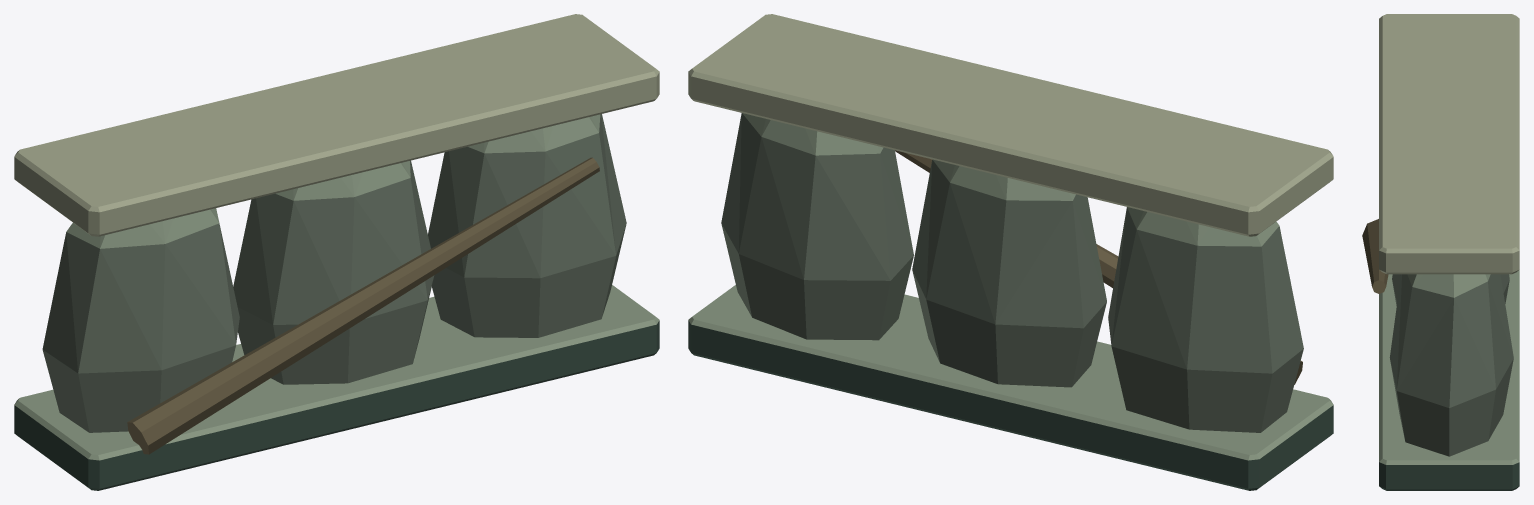
File: wall-straight.glb
3 views of the same model, side by side, from view 1: azimuth 30°, elevation 25°; view 2: azimuth 150°, elevation 25°; view 3: azimuth 270°, elevation 25° (orthographic). The views are drawn at different scales.
Parts seen in each view (by area): view 1: wall-straight__body; view 2: wall-straight__body; view 3: wall-straight__body.
Boxes of the visible parts, box(x1,y1,x2,y2) form: wall-straight__body: box(14, 14, 659, 490); wall-straight__body: box(688, 14, 1333, 490); wall-straight__body: box(1362, 14, 1519, 490).
Bounding box in the file's own units: 2.01 × 0.95 × 0.56.
